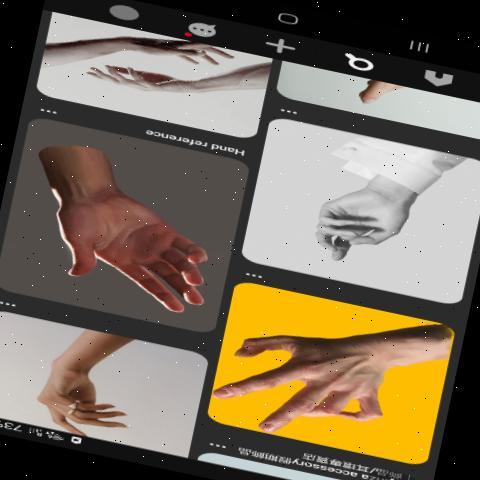Hands: (24, 146, 213, 324), (215, 299, 405, 448), (278, 160, 448, 277), (25, 337, 142, 453), (77, 59, 196, 107), (130, 34, 240, 75)
